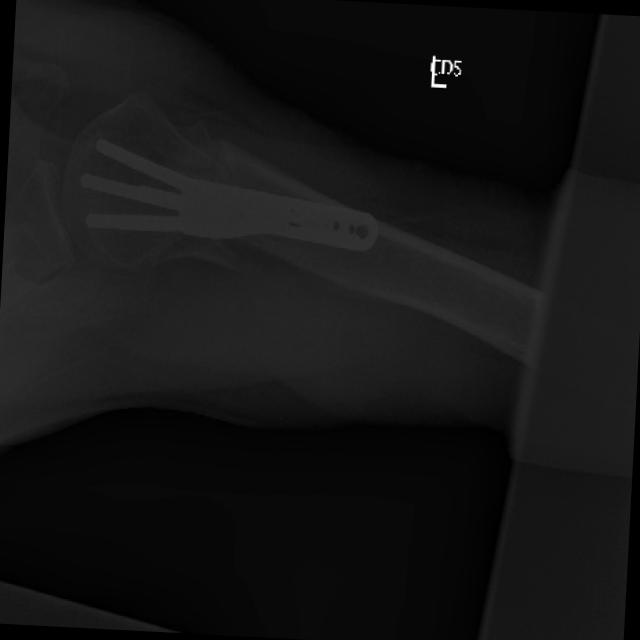shoulder fracture: (198, 228, 288, 297)
